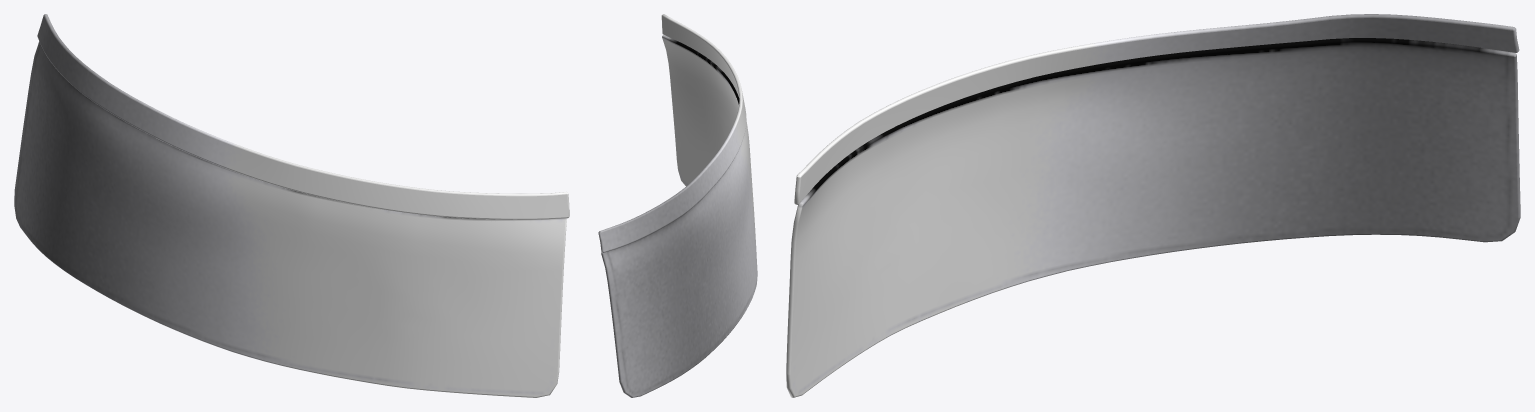
File: xiakoudai-R.FBX
3 renders of one model, left to right at view 1: azimuth 30°, elevation 25°; view 2: azimuth 150°, elevation 25°; view 3: azimuth 270°, elevation 25°, orthographic. The views are drawn at different scales.
Parts seen in each view (by area): view 1: default010; view 2: default010; view 3: default010.
Boxes of the visible parts, left/top/right/bottom form: default010: left=14, top=14, right=569, bottom=397; default010: left=598, top=14, right=757, bottom=397; default010: left=786, top=14, right=1520, bottom=397.
Bounding box in the file's own units: 6.76 × 5.02 × 13.1.
